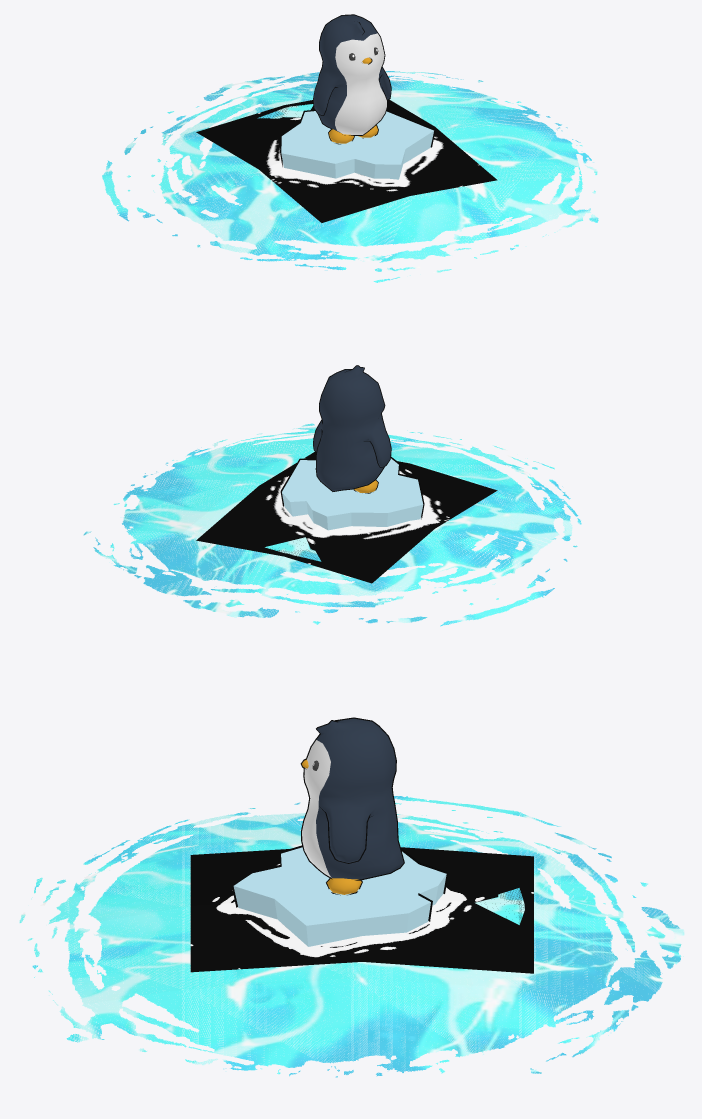
The model's file is lil_pengu.glb.
3 renders of one model, top to bottom at view 1: azimuth 30°, elevation 25°; view 2: azimuth 150°, elevation 25°; view 3: azimuth 270°, elevation 25°, orthographic. The views are drawn at different scales.
Parts seen in each view (by area): view 1: Water_1, Water2_0, Body_5, Ice_4; view 2: Water_1, Water2_0, Body_5, Ice_4; view 3: Water_1, Water2_0, Body_5, Ice_4.
Boxes of the visible parts, bbox=[...] form: Water_1: bbox=[102, 71, 598, 282]; Water2_0: bbox=[196, 99, 497, 222]; Body_5: bbox=[313, 14, 391, 135]; Ice_4: bbox=[280, 109, 435, 179]; Water_1: bbox=[83, 423, 581, 626]; Water2_0: bbox=[196, 452, 497, 583]; Body_5: bbox=[313, 365, 391, 491]; Ice_4: bbox=[280, 457, 424, 530]; Water_1: bbox=[19, 796, 684, 1077]; Water2_0: bbox=[190, 847, 533, 973]; Body_5: bbox=[301, 717, 404, 880]; Ice_4: bbox=[231, 845, 448, 946].
Bounding box in the file's own units: 5.88 × 2.33 × 5.88.
11 materials, 2 textured.
